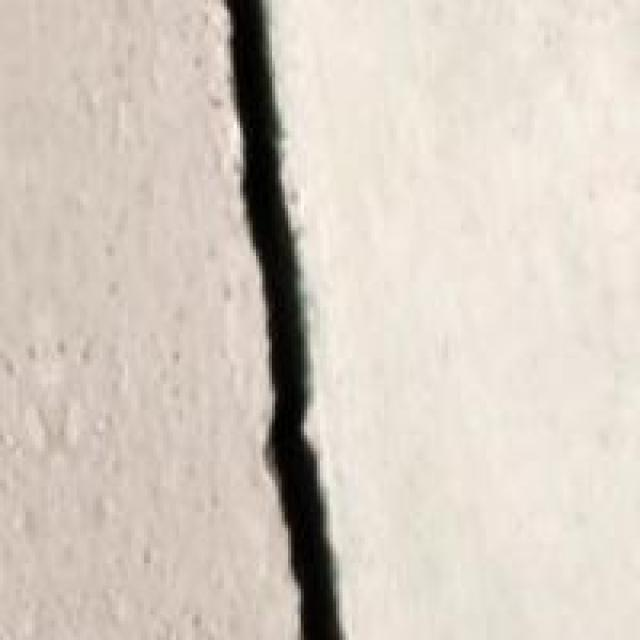crack: (154, 0, 396, 637)
